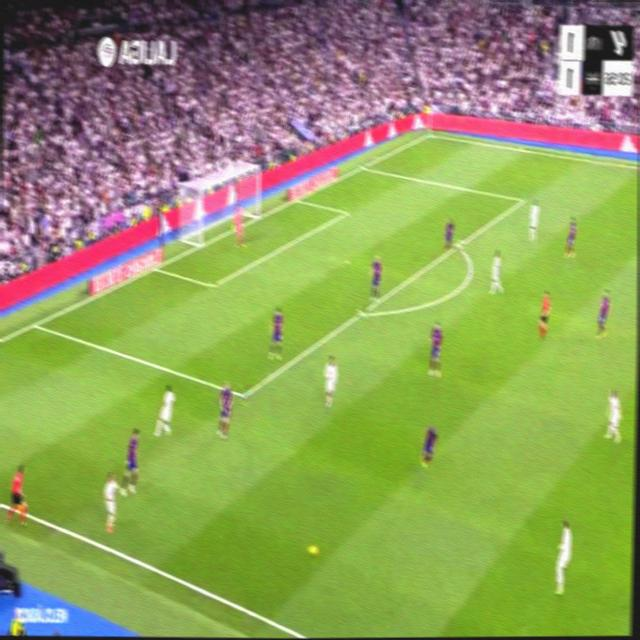bigarea_bottom_inner: (237, 383, 249, 406)
bigarea_top_inner: (520, 193, 525, 206)
bigarea_top_outter: (358, 160, 366, 172)
bottom_arc_area_intersection: (356, 304, 366, 320)
corner: (425, 130, 432, 137)
smallarea_bottom_inner: (207, 276, 216, 292)
smallarea_top_inner: (343, 206, 349, 216)
top_arc_area_intersection: (453, 237, 462, 253)
